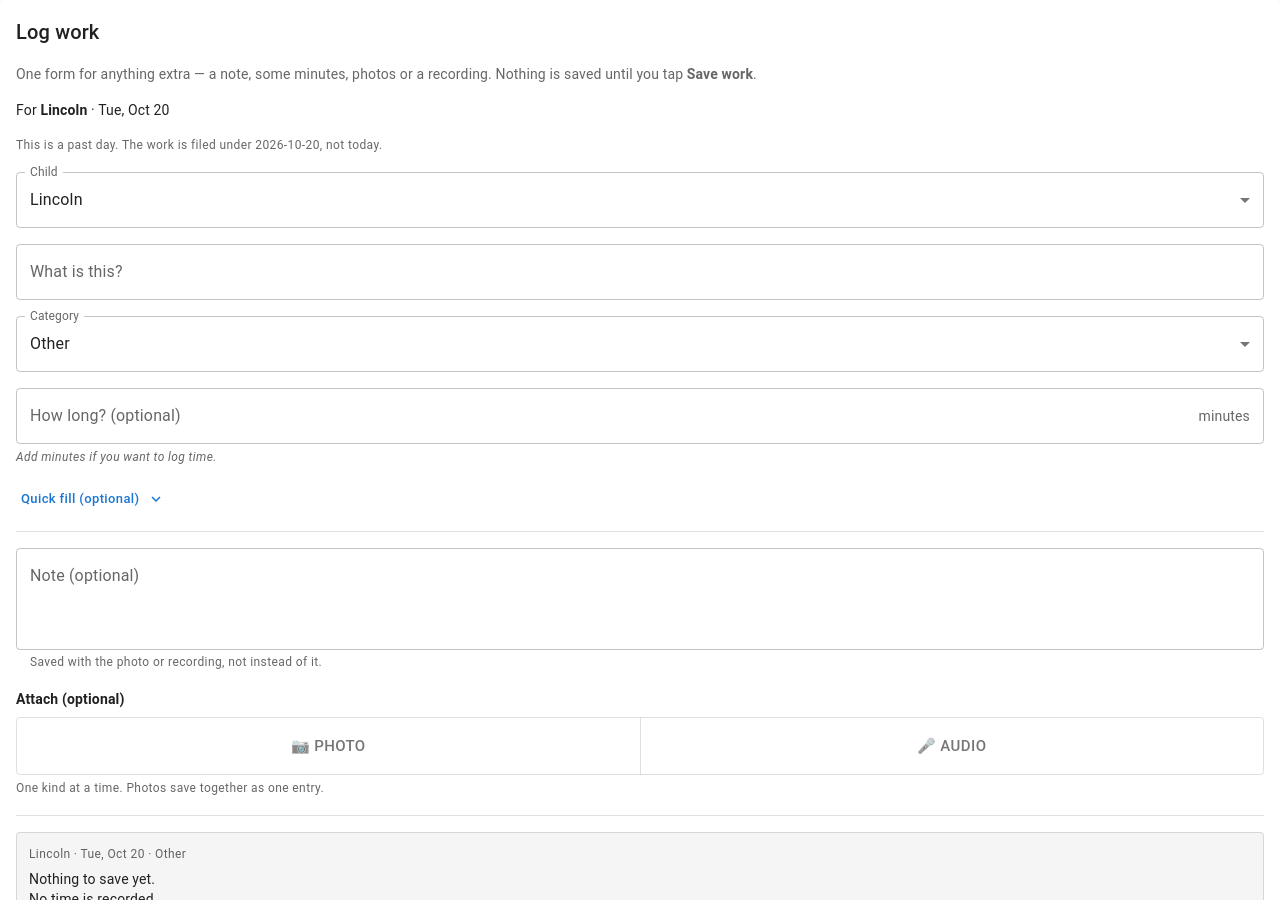
LogWorkCard — the hours row failed and the evidence did not › a finished retry clears the draft it saved, so it cannot be filed twice
The width and height of the screenshot is (1280, 900).
Type "RETRY NOTE" into the text box labelled "Note (optional)" at (640, 599), box [30,564,1250,633]
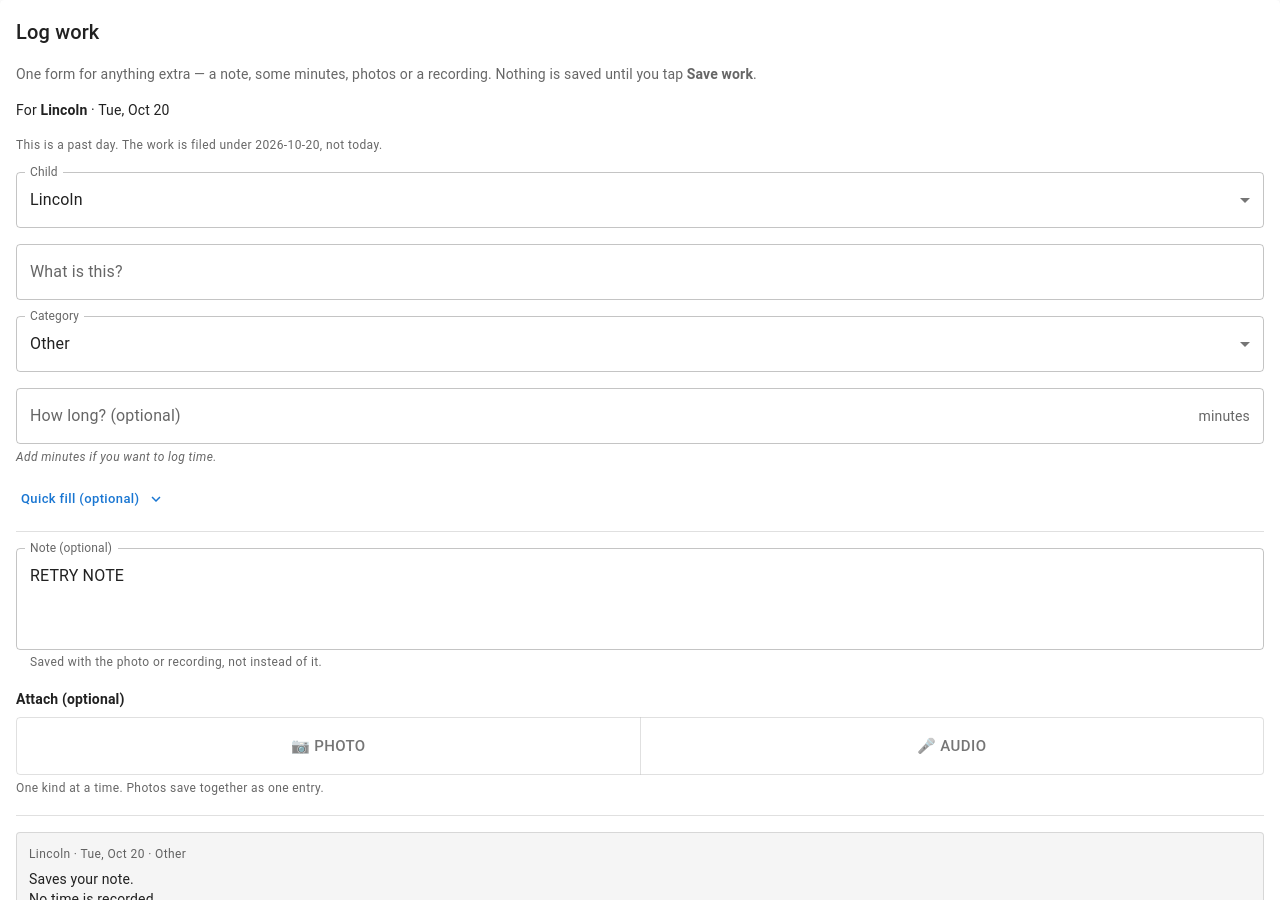
Type "27" into the number field named "Duration in minutes" at (603, 416), box [16,388,1191,444]
(page scrolled)
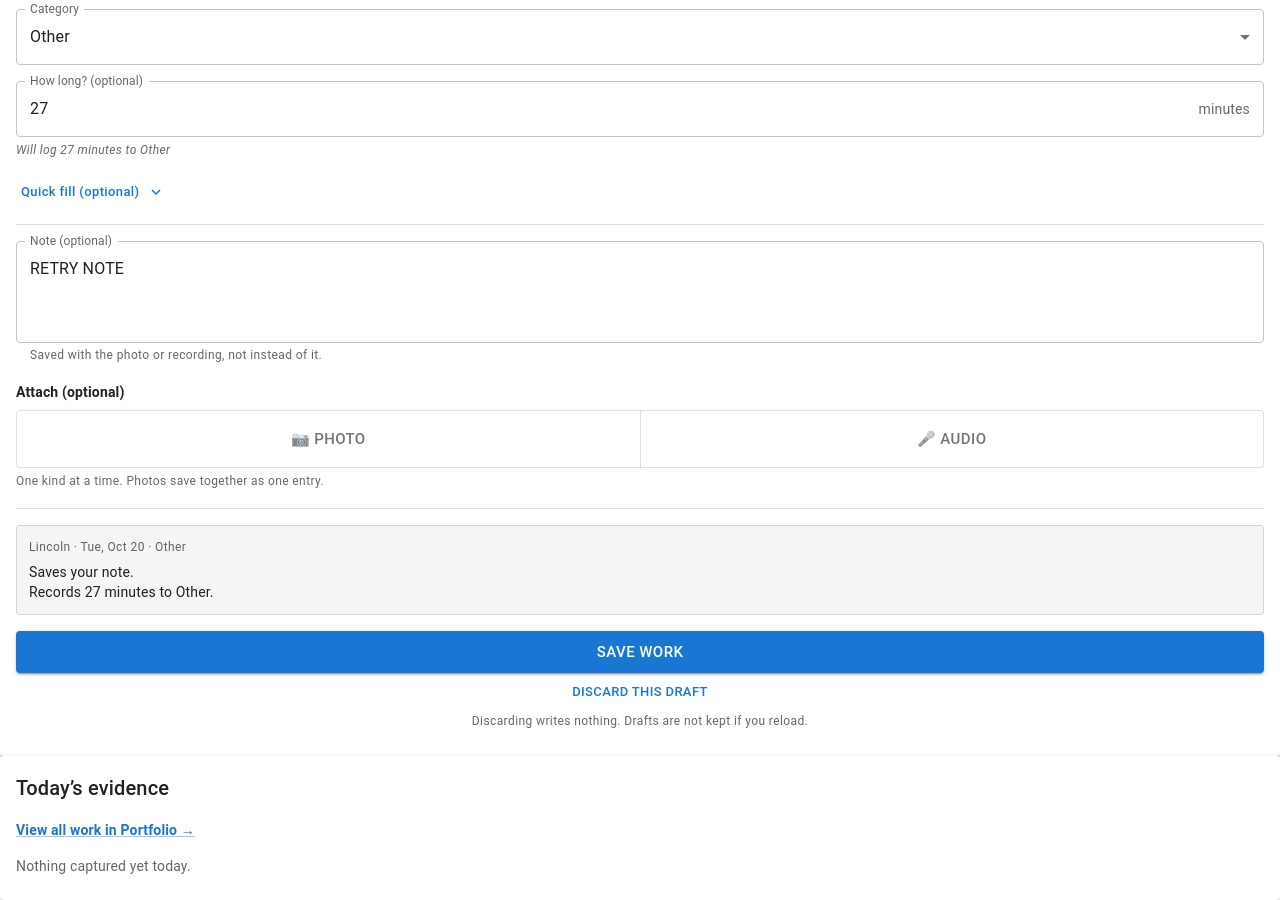
Click the button "Save work" at (640, 652), box [16,631,1264,673]
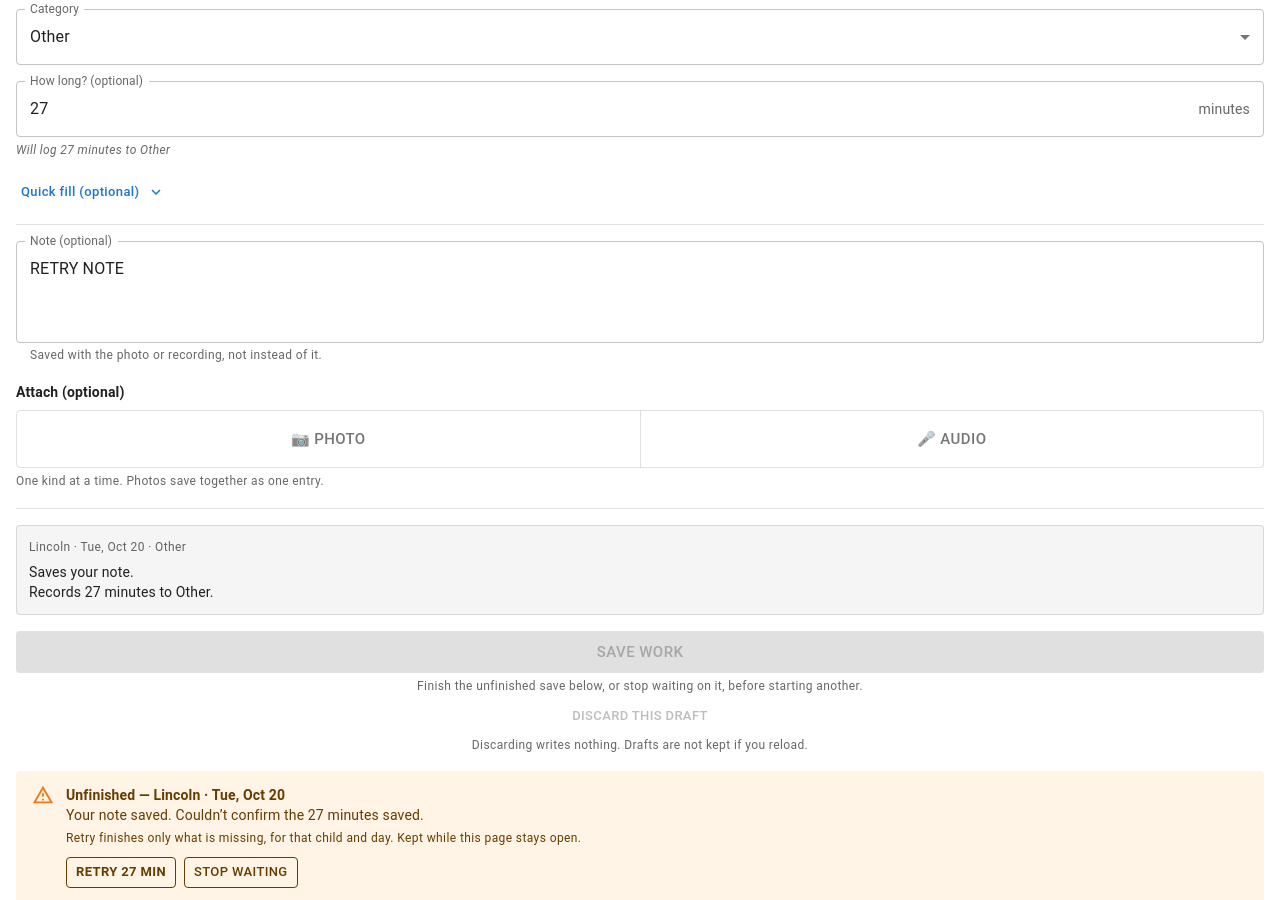
Click the button "Retry 27 min" at (121, 873), box [66,857,176,888]
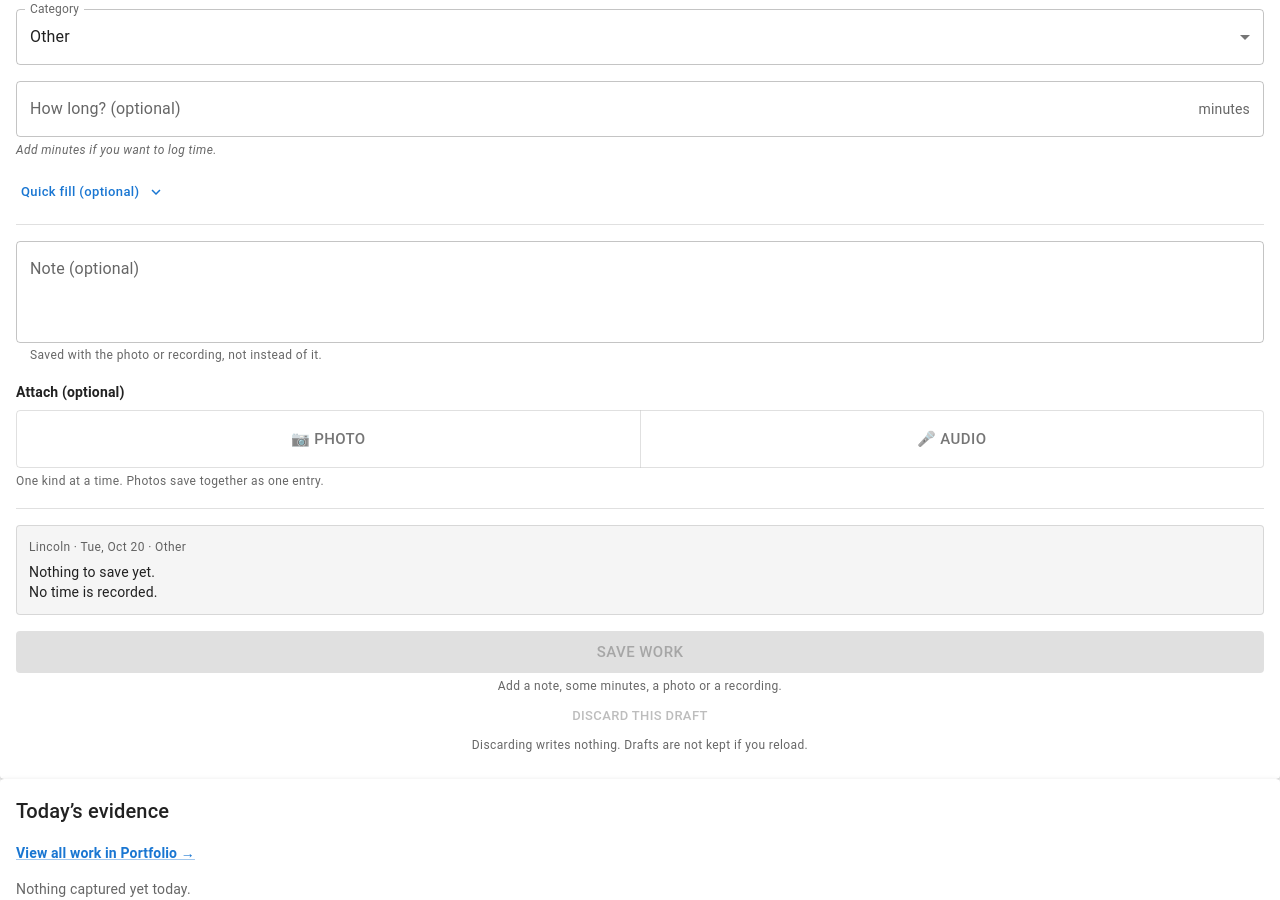
Expected: the button "Save work" is disabled, [16,631,1264,673]
Expected: the text box labelled "Note (optional)" is empty, [30,257,1250,326]
Expected: the number field named "Duration in minutes" is empty, [16,81,1191,137]
